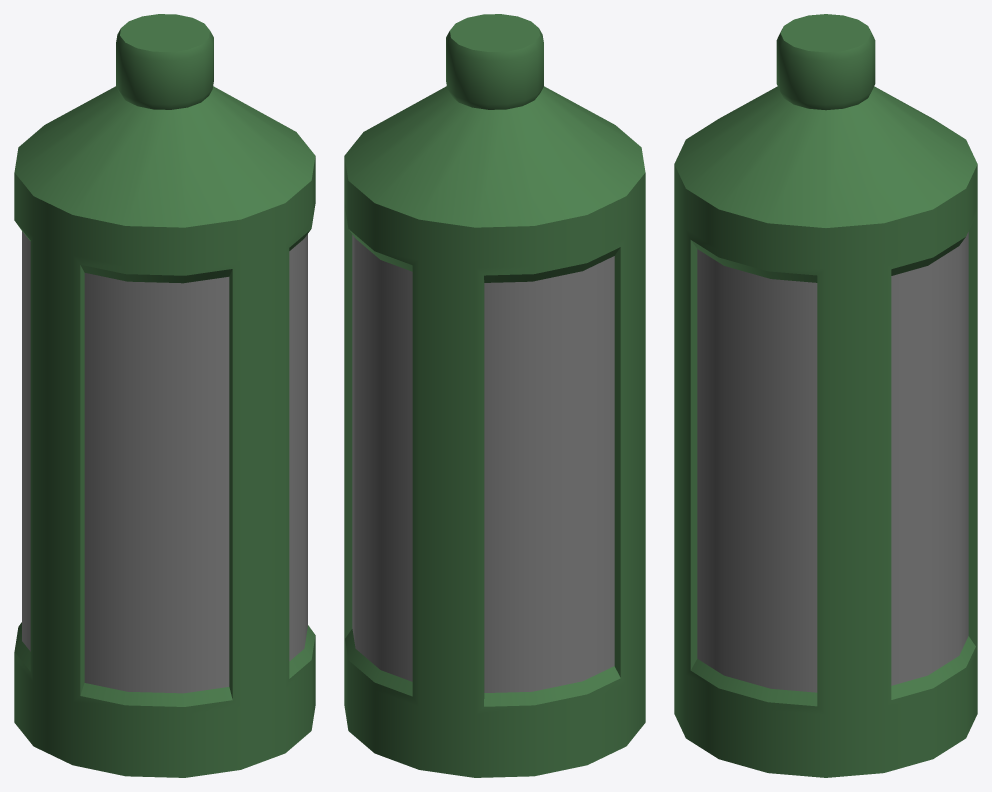
Rendered from cannister_guard_filled_mesh.glb.
3 views of the same model, side by side, from view 1: azimuth 30°, elevation 25°; view 2: azimuth 150°, elevation 25°; view 3: azimuth 270°, elevation 25° (orthographic).
Parts seen in each view (by area): view 1: Cannister, Fill; view 2: Cannister, Fill; view 3: Cannister, Fill.
Part boxes in pixels (x1,y1,x2,y2): Cannister: [14, 14, 315, 777]; Fill: [22, 231, 307, 693]; Cannister: [344, 14, 645, 777]; Fill: [352, 234, 614, 692]; Cannister: [674, 14, 977, 777]; Fill: [697, 232, 968, 692].
Size of the model in its own units: 0.4 by 0.9904 by 0.4.
